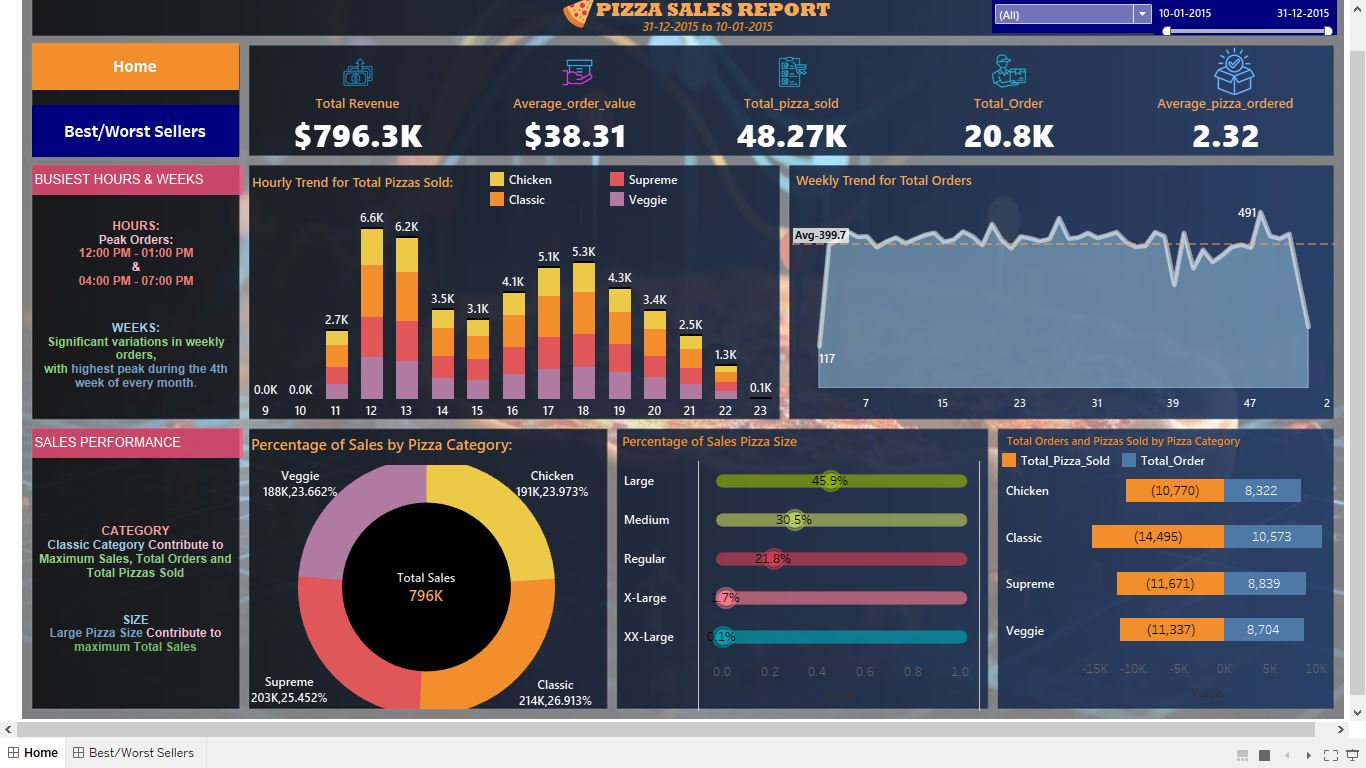

This screenshot's page, from the dashboard's own definition file:
{"tool":"tableau","page":{"name":"Home","canvas":[1366,768],"ordinal":1},"visuals":[{"type":"image","param":"D:/Projects/Tableau_files/Pizza Tableau 1.jpg","box":[8,8,1350,752]},{"type":"filter","title":"Hourly Trend for Total Pizzas Sold:","param":"[federated.01mb5md1ai3h161djufym1tlbrdc].[none:order_date:qk]","box":[1154,20,183,52]},{"type":"filter","title":"Hourly Trend for Total Pizzas Sold:","param":"[federated.01mb5md1ai3h161djufym1tlbrdc].[none:pizza_category:nk]","box":[992,21,163,49]},{"type":"text","box":[592.5,29.9,245,33.3]},{"type":"image","param":"D:/Projects/Tableau_files/Pizza Sales Images-20231103T185227Z-001/Pizza Sales Im","box":[557.5,33.3,40.1,31.6]},{"type":"worksheet","title":"Date Range","mark":"Automatic","box":[622,54,172,17]},{"type":"dashboard-object","box":[32,80,207,47]},{"type":"image","param":"D:/Projects/Tableau_files/Pizza Sales Images-20231103T185227Z-001/Pizza Sales Im","box":[1208.1,84.5,52.9,47.8]},{"type":"image","param":"D:/Projects/Tableau_files/Pizza Sales Images-20231103T185227Z-001/Pizza Sales Im","box":[985.2,89.6,47,35]},{"type":"image","param":"D:/Projects/Tableau_files/Pizza Sales Images-20231103T185227Z-001/Pizza Sales Im","box":[330.4,92.2,56.3,33.3]},{"type":"image","param":"D:/Projects/Tableau_files/Pizza Sales Images-20231103T185227Z-001/Pizza Sales Im","box":[546.4,92.2,63.2,34.1]},{"type":"image","param":"D:/Projects/Tableau_files/Pizza Sales Images-20231103T185227Z-001/Pizza Sales Im","box":[762.4,93,61.5,30.7]},{"type":"worksheet","title":"KPI","mark":"Automatic","box":[249.3,129.7,1085.1,61.4]},{"type":"dashboard-object","box":[32,142,207,52]},{"type":"text","box":[32,202,211,30]},{"type":"worksheet","title":"Weekly Trend for Total Orders","mark":"Area","rows":["Calculation_358599138550870017","Calculation_358599138550870017"],"cols":["order_date"],"box":[792.3,204,543,250.9]},{"type":"worksheet","title":"Hourly Trend for Total Pizzas Sold:","mark":"Bar","rows":["Calculation_358599138551529475","Calculation_358599138551529475"],"cols":["order_time"],"box":[247.6,205.7,531,250]},{"type":"legend","title":"Hourly Trend for Total Pizzas Sold:","param":"[federated.01mb5md1ai3h161djufym1tlbrdc].[none:pizza_category:nk]","box":[487,206,290,43]},{"type":"text","box":[30,231,212,224]},{"type":"text","box":[1004,463,239,30]},{"type":"text","box":[32,465,211,30]},{"type":"worksheet","title":"Percentage of sales by Pizza Size","mark":"Line","rows":["pizza_size"],"box":[618,465,362,284]},{"type":"worksheet","title":"Percentage of Sales by Pizza Category:","mark":"Pie","rows":["Calculation_671317838612312065","Calculation_671317838612312065"],"box":[246.7,466.8,358.6,279]},{"type":"legend","title":"Total Orders & Pizzas Sold by Pizza Category","param":"[federated.01mb5md1ai3h161djufym1tlbrdc].[:Measure Names]","box":[999,487,333,28]},{"type":"worksheet","title":"Total Orders & Pizzas Sold by Pizza Category","mark":"Automatic","rows":["pizza_category"],"box":[1000,504,333,241]},{"type":"text","box":[31,509,209,237]}]}

Visuals, with their boxes on the page's 1366x768 design canvas (x1, y1, x2, y2). These are canvas units, not pixel positions in the 1366x768 screenshot, which may show the page scaled, cropped or inside an application window:
image: bbox(8, 8, 1358, 760)
"Hourly Trend for Total Pizzas Sold:" filter: bbox(1154, 20, 1337, 72)
"Hourly Trend for Total Pizzas Sold:" filter: bbox(992, 21, 1155, 70)
text: bbox(592, 30, 838, 63)
image: bbox(558, 33, 598, 65)
"Date Range" worksheet: bbox(622, 54, 794, 71)
dashboard-object: bbox(32, 80, 239, 127)
image: bbox(1208, 84, 1261, 132)
image: bbox(985, 90, 1032, 125)
image: bbox(330, 92, 387, 126)
image: bbox(546, 92, 610, 126)
image: bbox(762, 93, 824, 124)
"KPI" worksheet: bbox(249, 130, 1334, 191)
dashboard-object: bbox(32, 142, 239, 194)
text: bbox(32, 202, 243, 232)
"Weekly Trend for Total Orders" worksheet (Area marks): bbox(792, 204, 1335, 455)
"Hourly Trend for Total Pizzas Sold:" worksheet (Bar marks): bbox(248, 206, 779, 456)
"Hourly Trend for Total Pizzas Sold:" legend: bbox(487, 206, 777, 249)
text: bbox(30, 231, 242, 455)
text: bbox(1004, 463, 1243, 493)
text: bbox(32, 465, 243, 495)
"Percentage of sales by Pizza Size" worksheet (Line marks): bbox(618, 465, 980, 749)
"Percentage of Sales by Pizza Category:" worksheet (Pie marks): bbox(247, 467, 605, 746)
"Total Orders & Pizzas Sold by Pizza Category" legend: bbox(999, 487, 1332, 515)
"Total Orders & Pizzas Sold by Pizza Category" worksheet: bbox(1000, 504, 1333, 745)
text: bbox(31, 509, 240, 746)
